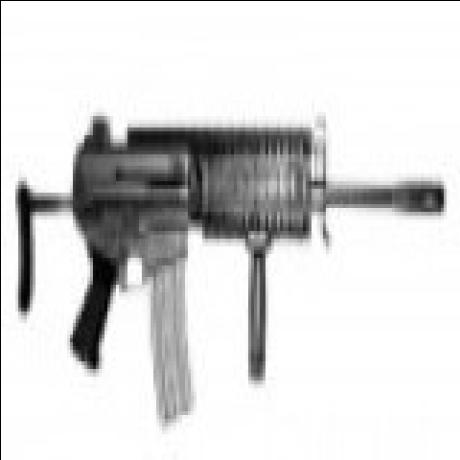weapon: (10, 120, 459, 446)
